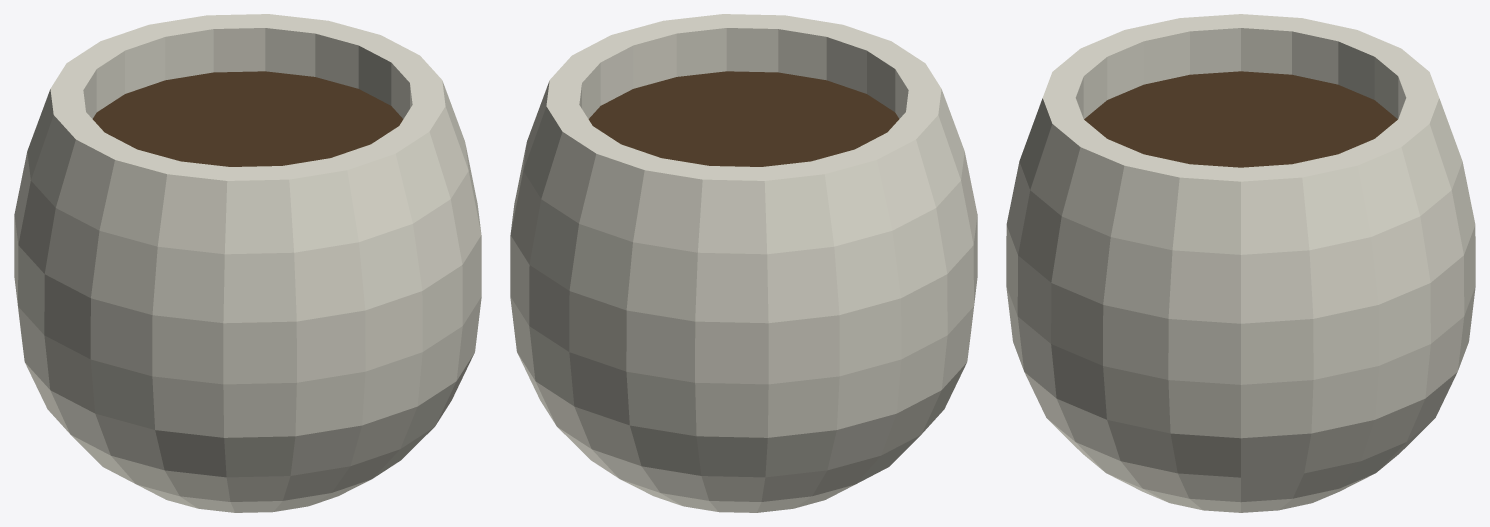
Rendered from Plant_Pot_Round.fbx.
The picture shows the model from 3 angles, left to right: view 1: azimuth 30°, elevation 25°; view 2: azimuth 150°, elevation 25°; view 3: azimuth 270°, elevation 25°; orthographic projection.
Visible parts, largest first — view 1: Plant_A; view 2: Plant_A; view 3: Plant_A.
Boxes of the visible parts, x1,y1,x2,y2 form: Plant_A: [14, 14, 481, 512]; Plant_A: [510, 14, 977, 512]; Plant_A: [1006, 14, 1475, 512].
Size of the model in its own units: 26.4 by 23.74 by 26.4.
1 material, 1 textured.
